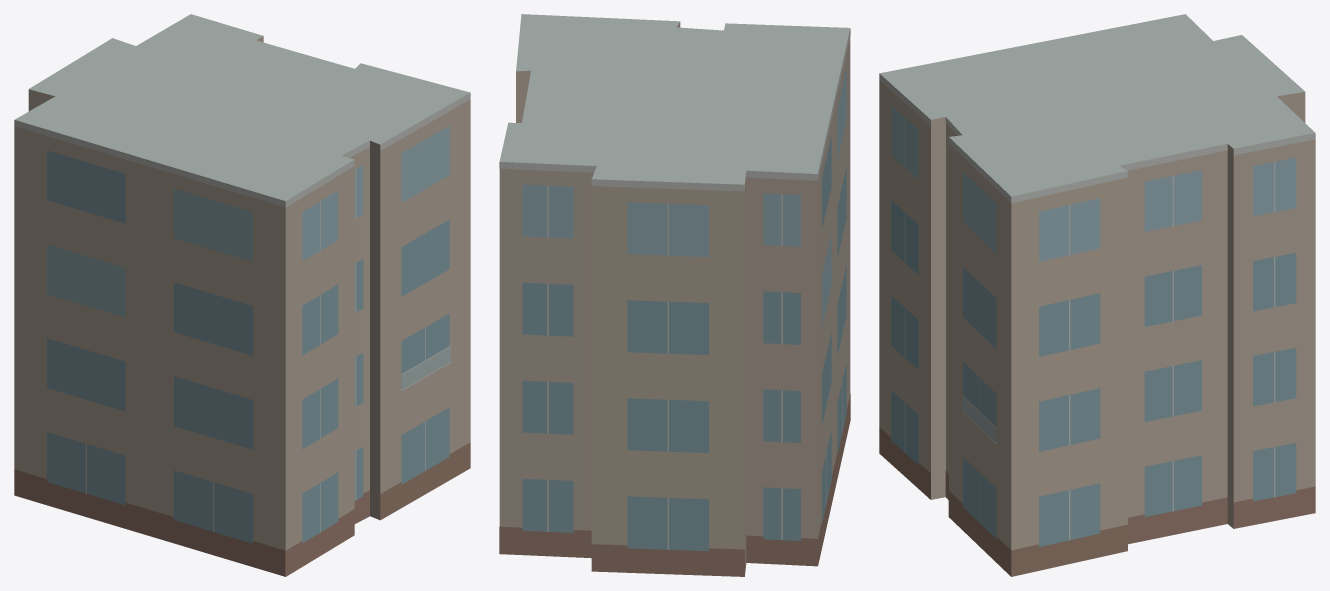
File: survey-upis-32737260.glb
3 views of the same model, side by side, from view 1: azimuth 30°, elevation 25°; view 2: azimuth 150°, elevation 25°; view 3: azimuth 270°, elevation 25° (orthographic). The views are drawn at different scales.
Parts seen in each view (by area): view 1: survey-upis-32737260.tmp; view 2: survey-upis-32737260.tmp; view 3: survey-upis-32737260.tmp.
Boxes of the visible parts, x1,y1,x2,y2 form: survey-upis-32737260.tmp: (14,14,470,576); survey-upis-32737260.tmp: (499,14,850,576); survey-upis-32737260.tmp: (879,14,1315,576).
Bounding box in the file's own units: 14.54 × 14.1 × 14.67.
